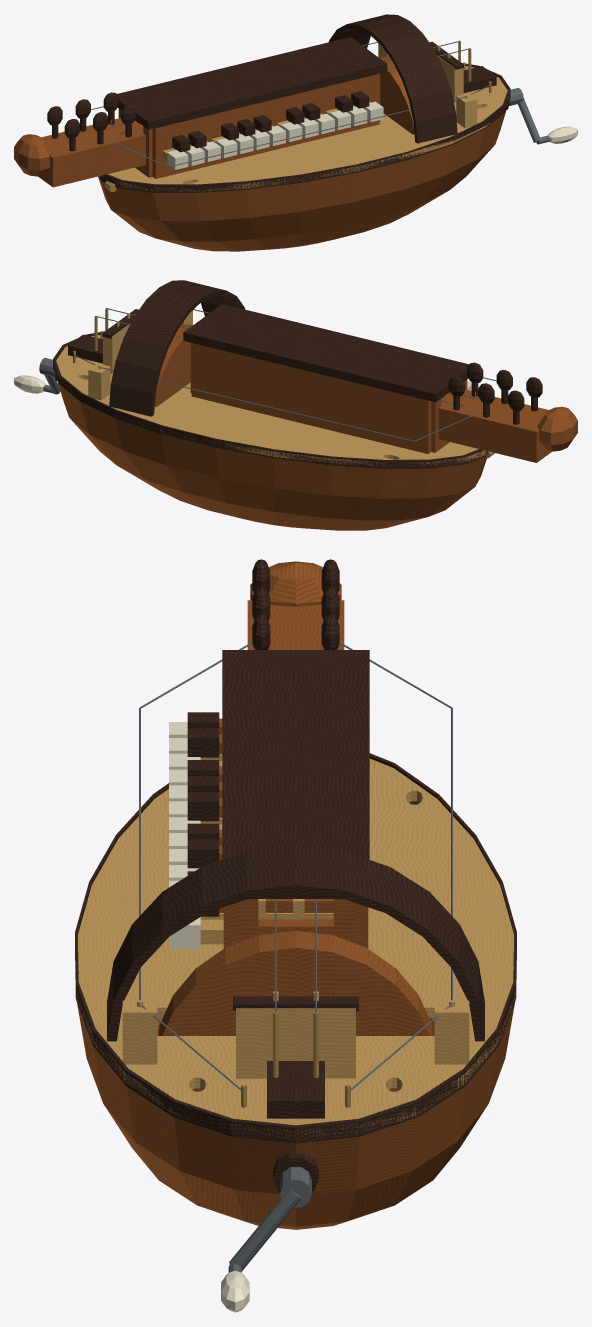
The model's file is hurdy_gurdy_LOD2.glb.
3 renders of one model, top to bottom at view 1: azimuth 30°, elevation 25°; view 2: azimuth 150°, elevation 25°; view 3: azimuth 270°, elevation 25°, orthographic. The views are drawn at different scales.
Visible parts, largest first — view 1: Hollow_bowl_shell, Keybox_closed_lid, Soundboard, Arched_wheel_cover, Keybox_side_rail, Short_pegbox_plate, Dark_perimeter_binding, Friction_wheel, Rounded_scroll_finial, Drone_bridge, Tailpiece, Melody_bridge (+6 smaller); view 2: Hollow_bowl_shell, Keybox_side_rail.001, Keybox_closed_lid, Soundboard, Arched_wheel_cover, Short_pegbox_plate, Dark_perimeter_binding, Friction_wheel, Rounded_scroll_finial, Drone_bridge.001, Tailpiece, Melody_bridge (+3 smaller); view 3: Soundboard, Keybox_closed_lid, Hollow_bowl_shell, Arched_wheel_cover, Friction_wheel, Dark_perimeter_binding, Melody_bridge, Tailpiece, Keybox_end_wall.001, Short_pegbox_plate, Rounded_scroll_finial, Drone_bridge (+7 smaller).
Part boxes in pixels (box(x1,y1,x2,y2)): Hollow_bowl_shell: box(98, 108, 506, 251); Keybox_closed_lid: box(117, 37, 387, 129); Soundboard: box(99, 66, 510, 191); Arched_wheel_cover: box(329, 14, 457, 143); Keybox_side_rail: box(152, 74, 379, 178); Short_pegbox_plate: box(38, 118, 145, 187); Dark_perimeter_binding: box(99, 63, 510, 192); Friction_wheel: box(378, 56, 414, 134); Rounded_scroll_finial: box(14, 134, 52, 176); Drone_bridge: box(456, 93, 477, 128); Tailpiece: box(463, 66, 496, 92); Melody_bridge: box(437, 55, 463, 102); Hollow_bowl_shell: box(57, 379, 486, 530); Keybox_side_rail.001: box(191, 343, 431, 453); Keybox_closed_lid: box(183, 304, 468, 402); Soundboard: box(55, 334, 486, 467); Arched_wheel_cover: box(109, 280, 245, 416); Short_pegbox_plate: box(438, 389, 552, 462); Dark_perimeter_binding: box(53, 331, 487, 468); Friction_wheel: box(154, 324, 192, 407); Rounded_scroll_finial: box(537, 406, 577, 451); Drone_bridge.001: box(88, 363, 110, 400); Tailpiece: box(68, 334, 102, 363); Melody_bridge: box(103, 323, 130, 373); Soundboard: box(75, 758, 516, 1138); Keybox_closed_lid: box(222, 650, 369, 898); Hollow_bowl_shell: box(76, 801, 515, 1229); Arched_wheel_cover: box(107, 846, 484, 1041); Friction_wheel: box(158, 930, 433, 1091); Dark_perimeter_binding: box(75, 753, 516, 1143); Melody_bridge: box(236, 1008, 355, 1078); Tailpiece: box(267, 1061, 324, 1118); Keybox_end_wall.001: box(235, 899, 356, 943); Short_pegbox_plate: box(247, 600, 344, 649); Rounded_scroll_finial: box(250, 561, 341, 606); Drone_bridge: box(122, 1000, 157, 1064).
Bounding box in the file's own units: 0.8705 × 0.2872 × 0.306.
6 materials, 3 textured.
